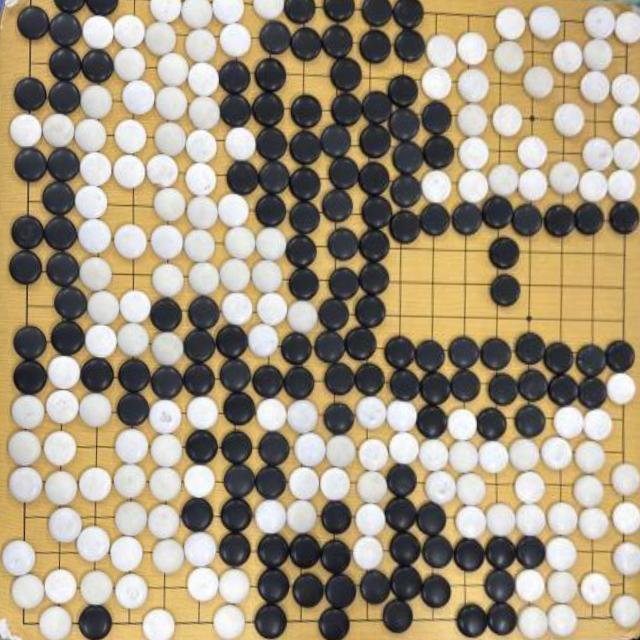blackstone: (12, 359, 48, 396), (42, 216, 78, 253), (46, 146, 82, 183), (46, 251, 82, 287), (50, 320, 86, 356), (53, 286, 88, 322), (14, 146, 49, 182), (13, 325, 48, 361), (11, 214, 46, 250), (14, 76, 48, 113), (42, 181, 77, 216), (79, 357, 114, 392), (9, 250, 43, 286), (48, 79, 82, 115), (118, 358, 152, 394), (48, 46, 82, 82), (324, 573, 358, 609), (219, 498, 253, 534), (420, 370, 452, 408), (81, 48, 115, 83), (358, 29, 392, 64), (180, 497, 214, 532), (49, 12, 83, 47), (78, 605, 113, 639), (218, 532, 252, 567), (184, 430, 218, 465), (389, 531, 423, 566), (488, 235, 521, 271), (259, 20, 292, 56), (484, 568, 517, 604), (257, 569, 290, 605), (289, 533, 320, 571), (116, 393, 150, 427), (187, 296, 221, 330), (183, 328, 217, 362), (218, 60, 252, 94), (17, 6, 51, 40), (223, 464, 257, 498), (254, 604, 288, 638), (182, 362, 216, 396), (319, 502, 353, 536), (452, 538, 486, 572), (150, 297, 183, 332), (359, 570, 392, 605), (257, 431, 290, 466), (322, 24, 354, 60), (320, 540, 352, 576), (390, 566, 422, 602), (290, 26, 323, 60), (381, 600, 414, 634), (150, 366, 183, 400), (254, 58, 288, 91), (225, 161, 258, 195), (219, 358, 252, 392), (344, 327, 377, 361), (223, 392, 256, 426), (323, 362, 356, 396), (330, 57, 362, 92), (292, 573, 324, 608), (220, 430, 252, 465), (289, 167, 322, 200), (283, 367, 316, 400), (511, 203, 543, 237), (452, 202, 484, 236), (482, 196, 514, 230), (514, 404, 546, 438), (480, 337, 512, 371), (394, 28, 426, 62), (542, 342, 574, 376), (291, 94, 323, 128), (448, 336, 480, 370), (358, 162, 390, 196), (387, 74, 419, 108), (487, 602, 519, 636), (253, 92, 285, 126), (319, 125, 353, 157), (390, 174, 422, 208), (285, 234, 317, 268), (358, 229, 390, 263), (359, 262, 391, 296), (318, 297, 350, 331), (314, 330, 346, 364), (384, 497, 416, 531), (252, 364, 284, 398), (384, 334, 416, 368), (604, 339, 635, 374), (575, 343, 606, 378), (515, 536, 546, 571), (281, 332, 312, 367), (476, 406, 506, 442), (389, 210, 421, 243), (322, 190, 354, 223), (319, 607, 351, 640), (456, 604, 488, 637), (391, 143, 424, 175), (255, 193, 287, 226), (257, 535, 289, 568), (490, 274, 521, 308), (574, 202, 605, 236), (419, 202, 450, 236), (421, 574, 452, 608), (387, 464, 418, 498), (422, 534, 453, 568), (418, 404, 449, 438), (291, 131, 321, 166), (256, 466, 286, 501), (356, 361, 386, 396), (288, 268, 320, 300), (328, 268, 360, 300), (359, 125, 391, 157), (288, 202, 320, 234), (360, 197, 392, 229), (355, 297, 387, 329), (256, 127, 287, 160), (389, 368, 420, 401), (517, 369, 548, 402), (609, 200, 639, 234), (221, 93, 251, 127), (422, 101, 452, 135), (486, 536, 516, 570), (452, 369, 482, 403), (488, 372, 518, 406), (323, 403, 354, 435), (328, 229, 359, 261), (331, 94, 362, 126), (389, 110, 420, 142), (577, 376, 607, 409), (424, 135, 454, 168), (515, 332, 545, 365), (548, 375, 578, 408), (544, 204, 574, 236), (259, 161, 289, 193), (218, 326, 248, 358), (363, 92, 392, 125), (418, 502, 446, 536), (416, 340, 446, 371), (329, 158, 359, 189), (392, 0, 424, 28), (362, 0, 392, 28), (321, 0, 356, 22), (284, 0, 316, 24), (87, 0, 120, 16), (52, 0, 86, 10)
whitestone: (7, 466, 44, 504), (42, 430, 78, 468), (44, 470, 80, 508), (48, 506, 84, 544), (76, 526, 112, 564), (113, 572, 149, 610), (7, 430, 42, 468), (11, 394, 46, 432), (114, 428, 150, 464), (10, 574, 46, 610), (183, 532, 218, 569), (2, 539, 37, 576), (110, 535, 144, 573), (153, 186, 188, 222), (79, 256, 114, 292), (116, 322, 151, 358), (47, 355, 82, 391), (78, 392, 113, 428), (78, 467, 114, 502), (148, 399, 184, 434), (147, 503, 182, 539), (151, 538, 186, 574), (186, 566, 221, 602), (79, 570, 114, 606), (44, 568, 79, 604), (212, 604, 247, 640), (46, 388, 80, 425), (150, 263, 185, 298), (154, 86, 189, 121), (74, 184, 109, 219), (150, 332, 185, 367), (114, 223, 148, 259), (78, 217, 112, 253), (114, 118, 148, 154), (79, 152, 113, 188), (113, 48, 147, 84), (184, 28, 218, 64), (80, 84, 114, 120), (219, 22, 253, 58), (9, 113, 43, 149), (114, 501, 148, 537), (544, 536, 578, 572), (218, 569, 252, 605), (112, 154, 146, 189), (186, 194, 220, 229), (74, 118, 108, 153), (122, 80, 156, 115), (84, 324, 119, 358), (146, 153, 180, 188), (42, 113, 76, 148), (82, 15, 116, 50), (38, 605, 72, 640), (294, 432, 327, 468), (183, 228, 217, 262), (119, 289, 153, 323), (187, 262, 221, 296), (219, 258, 253, 292), (224, 225, 258, 259), (185, 129, 219, 163), (185, 162, 219, 196), (183, 464, 217, 498), (150, 433, 184, 467), (254, 500, 288, 534), (149, 467, 183, 501), (113, 464, 147, 498), (354, 396, 388, 430), (154, 122, 187, 157), (354, 503, 387, 538), (142, 607, 177, 640), (218, 193, 251, 227), (157, 53, 190, 87), (225, 127, 258, 161), (221, 292, 255, 325), (247, 324, 281, 357), (87, 290, 120, 324), (188, 96, 221, 130), (144, 22, 177, 56), (457, 69, 490, 103), (186, 396, 219, 430), (113, 14, 146, 48), (546, 502, 579, 536), (352, 536, 385, 570), (455, 505, 488, 539), (188, 61, 220, 96), (553, 102, 585, 137), (582, 137, 614, 172), (584, 5, 616, 40), (150, 225, 183, 258), (256, 292, 289, 325), (255, 227, 288, 260), (357, 438, 390, 471), (287, 399, 319, 433), (456, 103, 488, 137), (548, 161, 580, 195), (458, 169, 490, 203), (421, 66, 453, 100), (388, 431, 420, 465), (288, 466, 320, 500), (553, 406, 585, 440), (286, 500, 318, 534), (582, 38, 614, 72), (319, 467, 351, 501), (356, 470, 388, 504), (574, 440, 606, 474), (573, 474, 605, 508), (578, 507, 610, 541), (529, 6, 561, 40), (495, 6, 527, 40), (424, 470, 456, 504), (546, 570, 578, 604), (580, 572, 612, 606), (517, 605, 549, 639), (456, 472, 487, 507), (610, 594, 640, 630), (252, 260, 284, 293), (287, 300, 319, 333), (256, 398, 288, 431), (488, 164, 520, 197), (522, 66, 554, 99), (458, 136, 490, 169), (552, 41, 584, 74), (386, 400, 418, 433), (514, 471, 546, 504), (540, 436, 572, 469), (478, 441, 510, 474), (515, 504, 547, 537), (579, 70, 610, 104), (426, 34, 457, 68), (547, 603, 578, 637), (610, 501, 640, 536), (610, 462, 640, 497), (492, 104, 524, 136), (420, 170, 452, 202), (494, 40, 525, 73), (447, 408, 478, 441), (515, 569, 546, 602), (418, 439, 449, 472), (578, 169, 608, 203), (326, 435, 356, 469), (486, 503, 516, 537), (612, 541, 640, 577), (517, 136, 548, 168), (457, 32, 488, 64), (606, 372, 636, 405), (583, 409, 613, 442), (510, 439, 540, 472), (518, 168, 548, 200), (607, 169, 637, 201), (610, 74, 640, 106), (612, 104, 640, 138), (449, 442, 479, 472), (612, 137, 640, 169), (180, 1, 213, 28), (614, 10, 640, 44), (149, 0, 182, 23), (212, 1, 244, 24), (252, 0, 284, 18)
